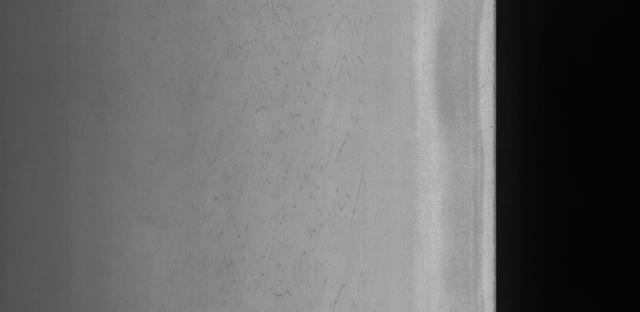silk_spot: (241, 47, 368, 296)
